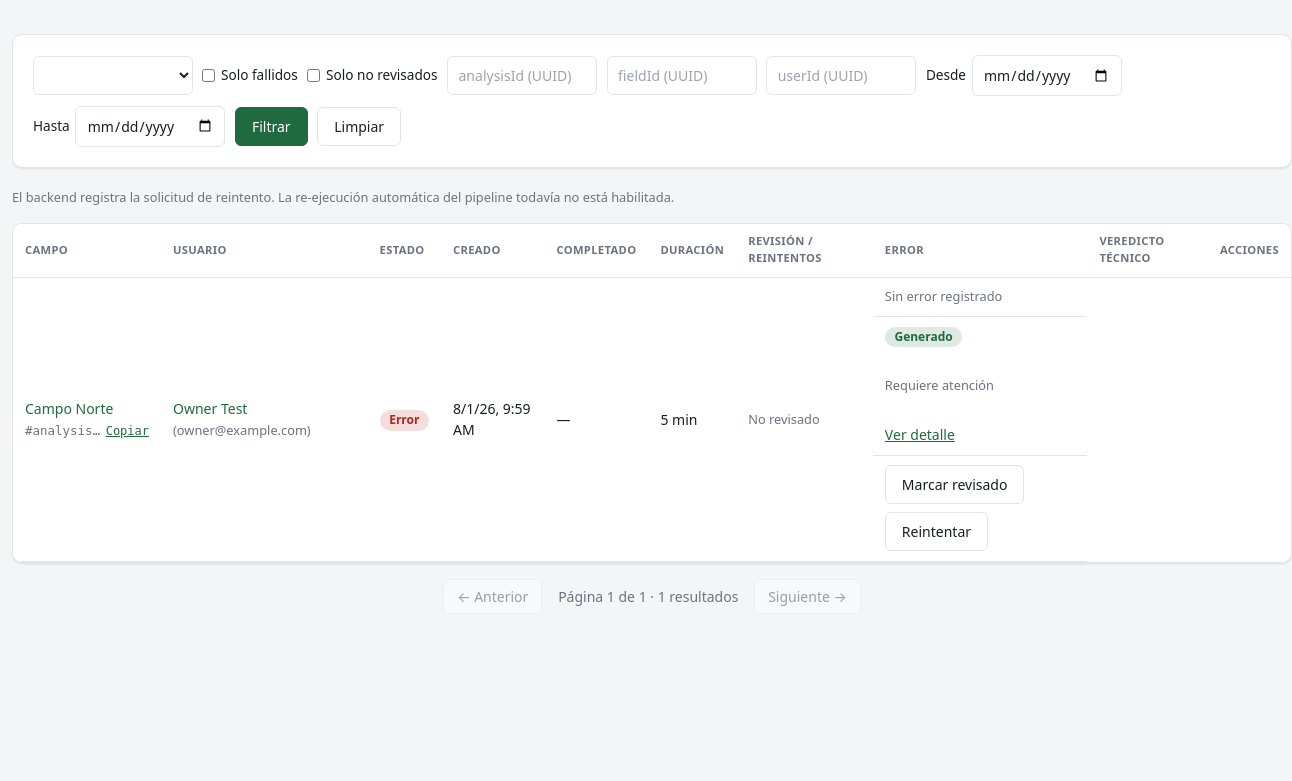
AnalysisComponent › Veredicto técnico (PR 13A) › renderiza el summary
Click the button "Ver detalle".
click(920, 435)  # box [885,424,955,445]
(page scrolled)
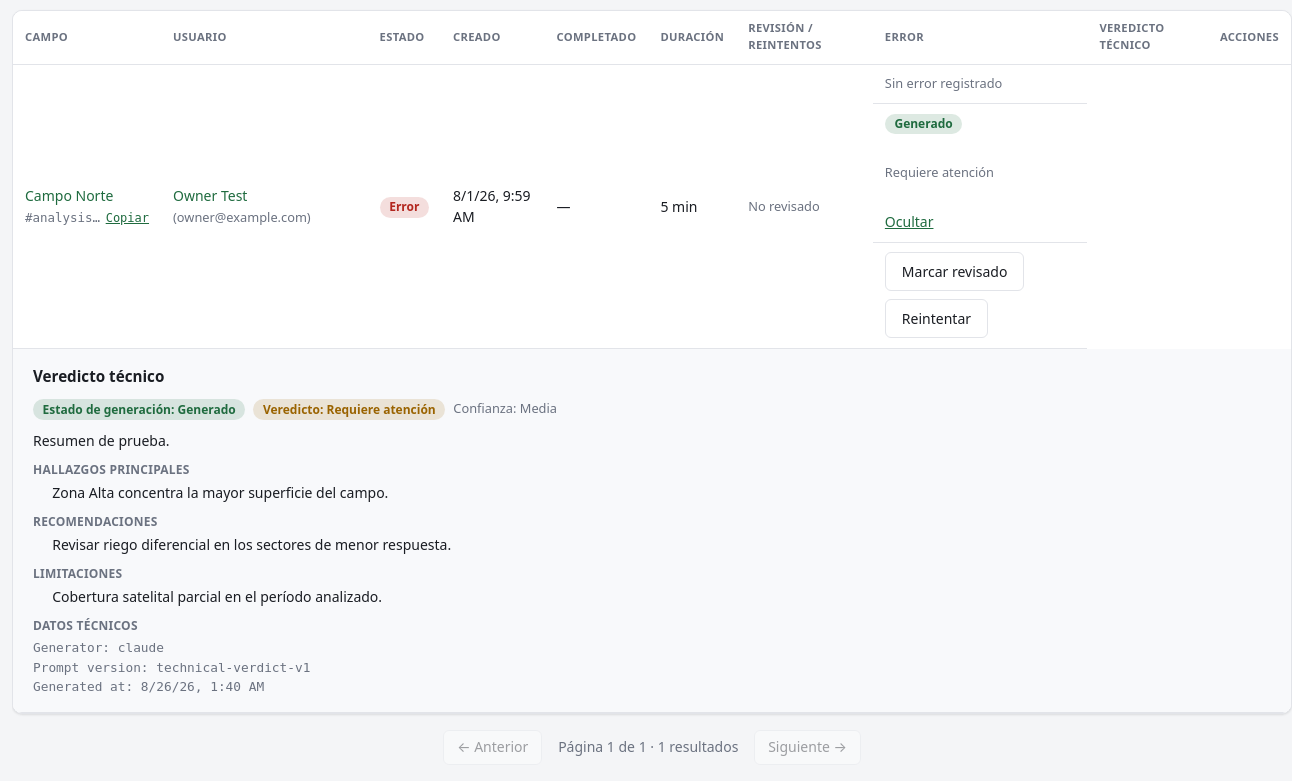
Expected: the element that starts with "Veredicto técnico" shows "Resumen de prueba.", [33,431,170,450]
